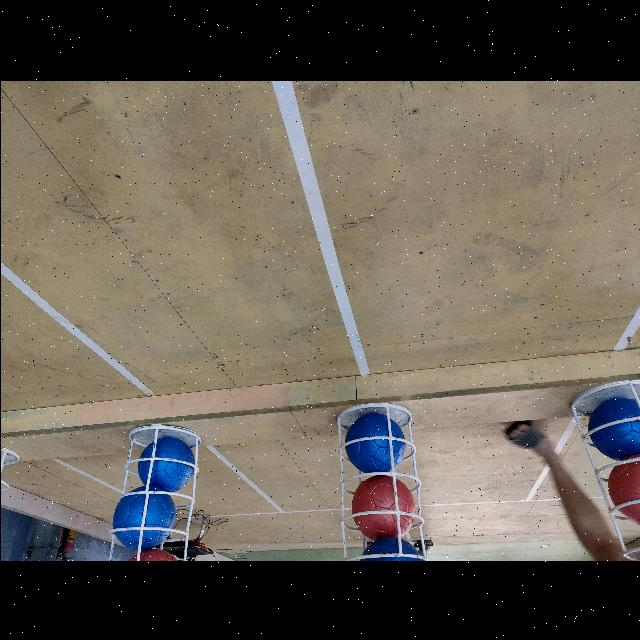B: (112, 486, 174, 550), (344, 412, 406, 472), (588, 397, 640, 458), (137, 436, 193, 490), (357, 536, 427, 560)
R: (352, 475, 414, 535), (606, 458, 640, 524), (118, 548, 182, 560)
